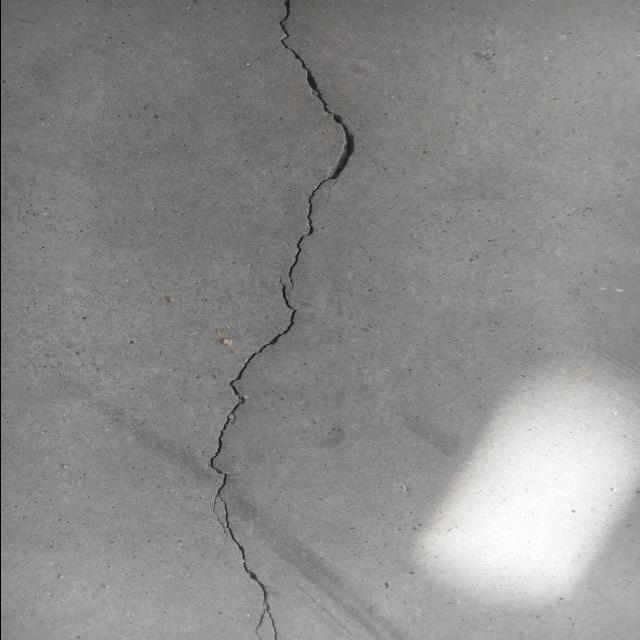SurfaceCrack: (182, 0, 379, 639)
